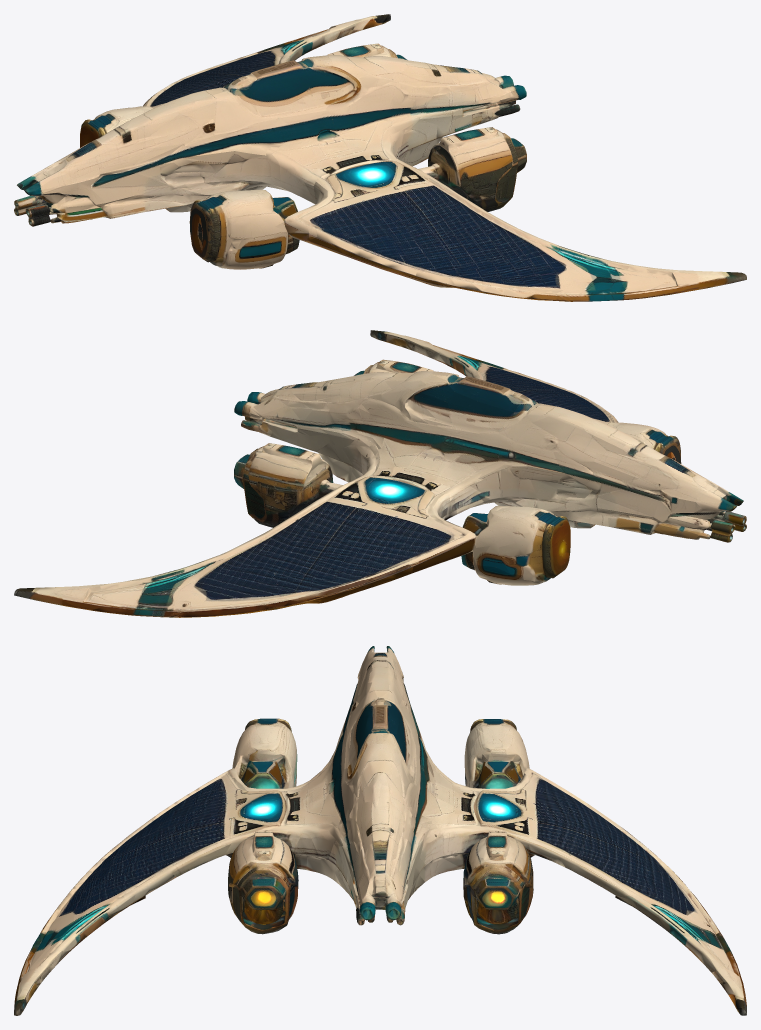
The model's file is kestrel-gunship.glb.
The picture shows the model from 3 angles, top to bottom: view 1: azimuth 30°, elevation 25°; view 2: azimuth 150°, elevation 25°; view 3: azimuth 270°, elevation 25°; orthographic projection. The views are drawn at different scales.
Parts seen in each view (by area): view 1: Hull; view 2: Hull; view 3: Hull.
Part boxes in pixels (box(x1,y1,x2,y2)): Hull: box(14, 14, 746, 301); Hull: box(14, 330, 746, 617); Hull: box(14, 646, 746, 1015).
Bounding box in the file's own units: 1.76 × 0.4747 × 2.
1 material, 1 textured.
